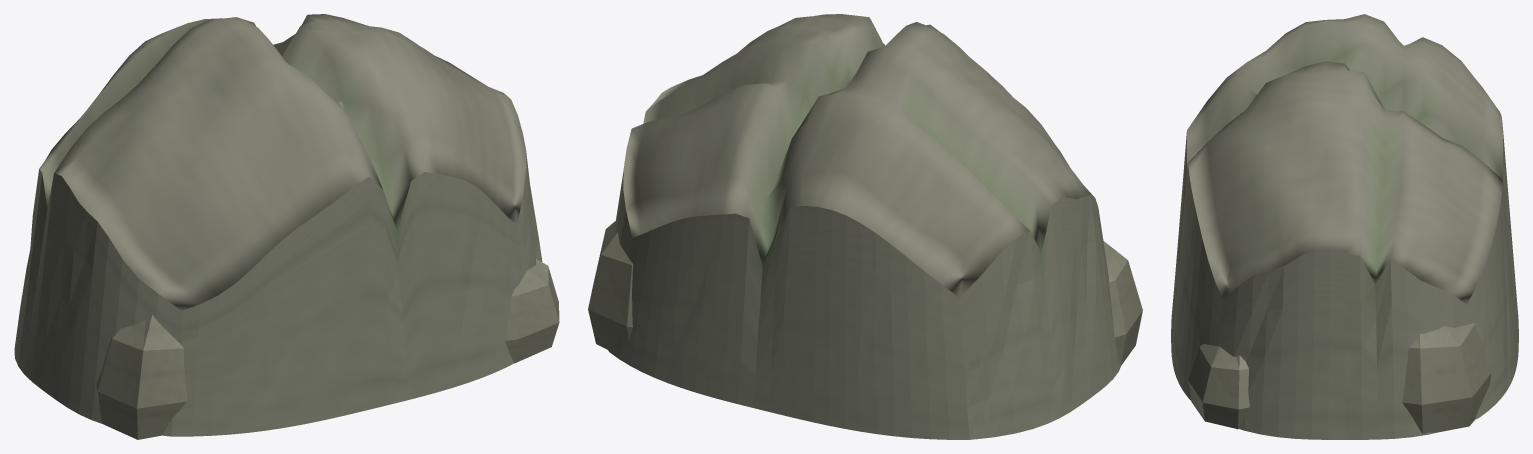
Rendered from cliff-granite-lod0.glb.
The picture shows the model from 3 angles, left to right: view 1: azimuth 30°, elevation 25°; view 2: azimuth 150°, elevation 25°; view 3: azimuth 270°, elevation 25°; orthographic projection. The views are drawn at different scales.
Size of the model in its own units: 0.506 by 0.3378 by 0.3575.
Materials: 1 (1 with a texture image).
